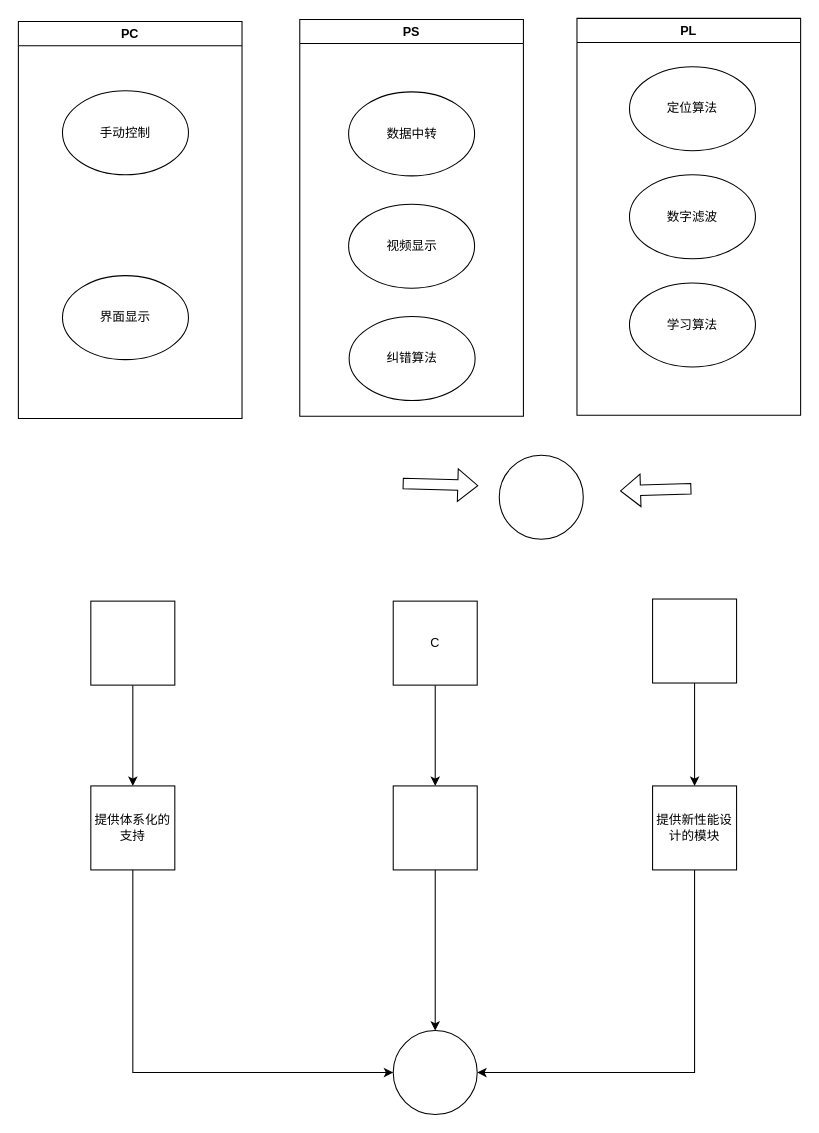
This 819x1133 diagram has some shape labels left out. The shapes that lost their labels are listed below. From the top down, each one's centre as x and y in pixels, then its label:
(540,496): 后续合并到高性能PL上
(132,642): C++ tcl bat m
(694,640): V SV
(434,827): 提供已有接口的驱动
(434,1072): 生态设计
